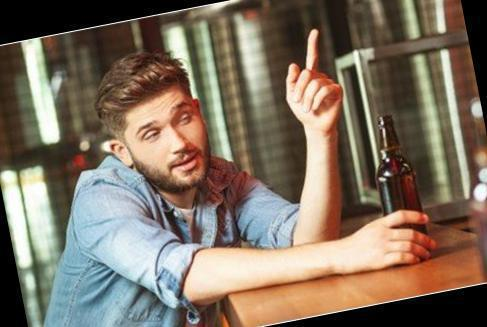Drunk: (129, 92, 208, 189)
